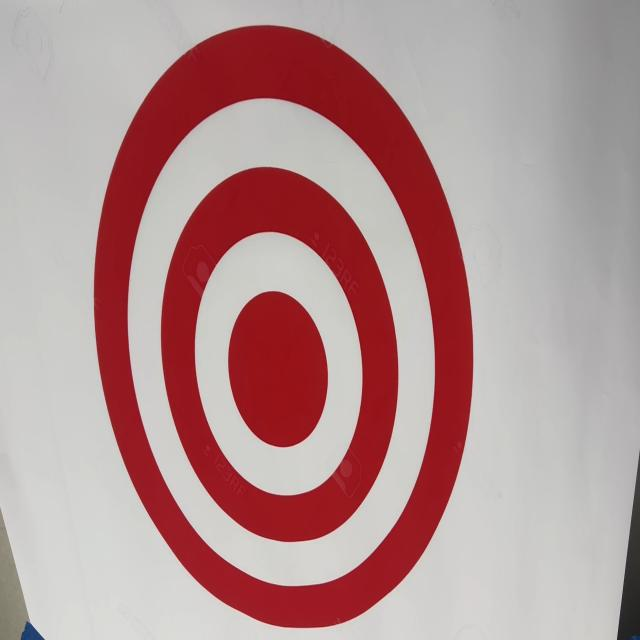target_red: (91, 18, 492, 632)
